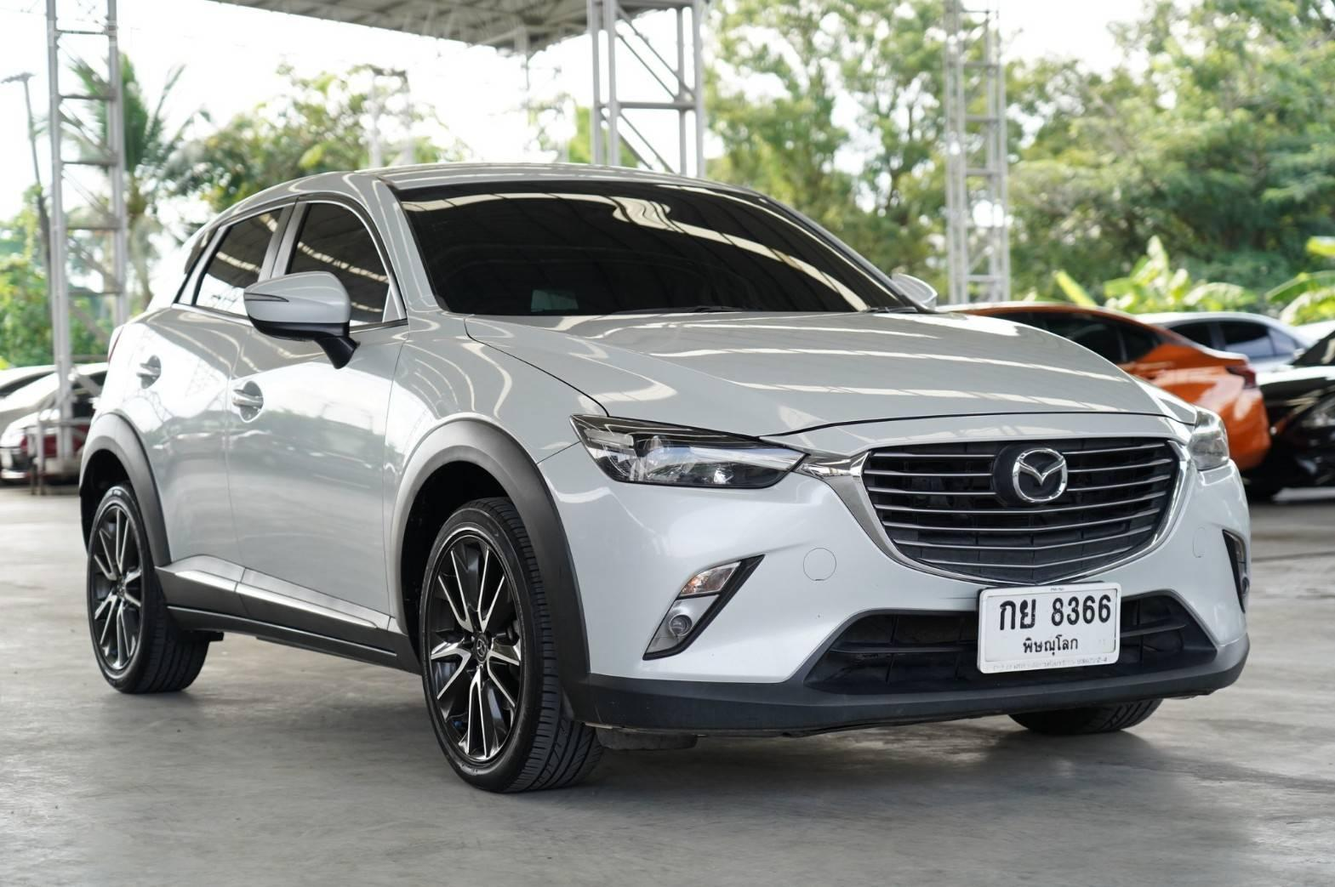license-plate: (975, 580, 1120, 674)
